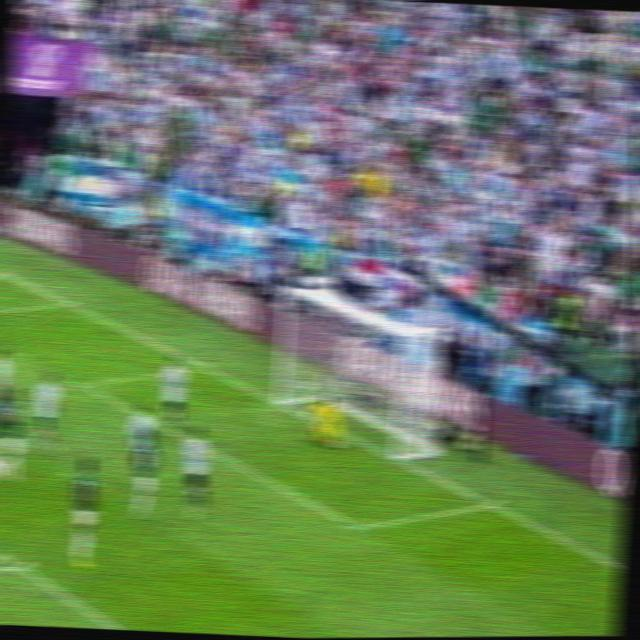bigarea_bottom_outter: (5, 552, 34, 580)
bigarea_top_outter: (55, 294, 76, 310)
bottom_arc_area_intersection: (5, 552, 34, 581)
smallarea_bottom_inner: (341, 507, 373, 546)
smallarea_bottom_outter: (474, 485, 504, 520)
smallarea_top_inner: (71, 371, 96, 400)
smallarea_top_outter: (191, 355, 214, 379)
